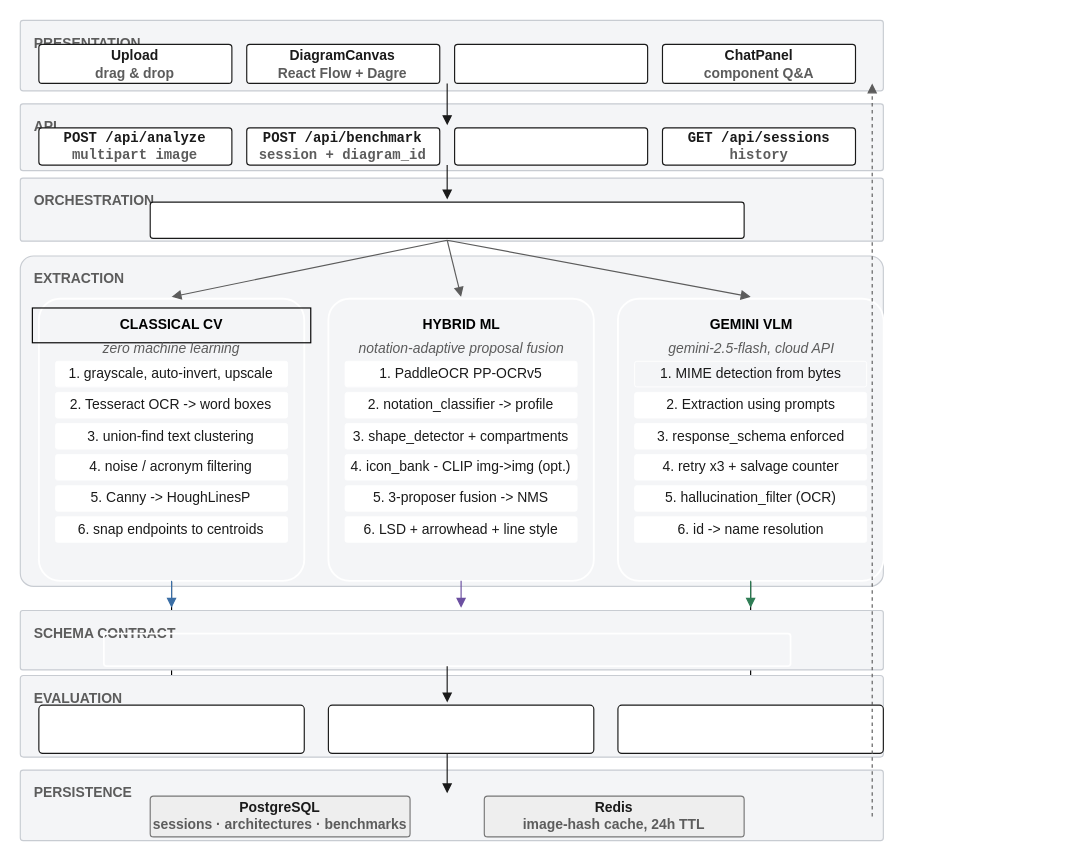
The diagram is 1082 pixels wide and 862 high, and some of its shapes have lost their labels. Here are the shapes that lost their labels. From the top down, the centre of each, then its label:
At point (550, 63): "BenchmarkPanel scores vs ground truth".
At point (550, 146): "POST /api/chat message + component_id".
At point (446, 219): "extraction_orchestrator.py".
At point (922, 431): "session reload".
At point (446, 649): "models/schemas.py · ArchitectureSchema".
At point (171, 728): "metrics.py".
At point (460, 728): "routers/benchmark.py".
At point (750, 728): "evaluation/ground_truth/".
